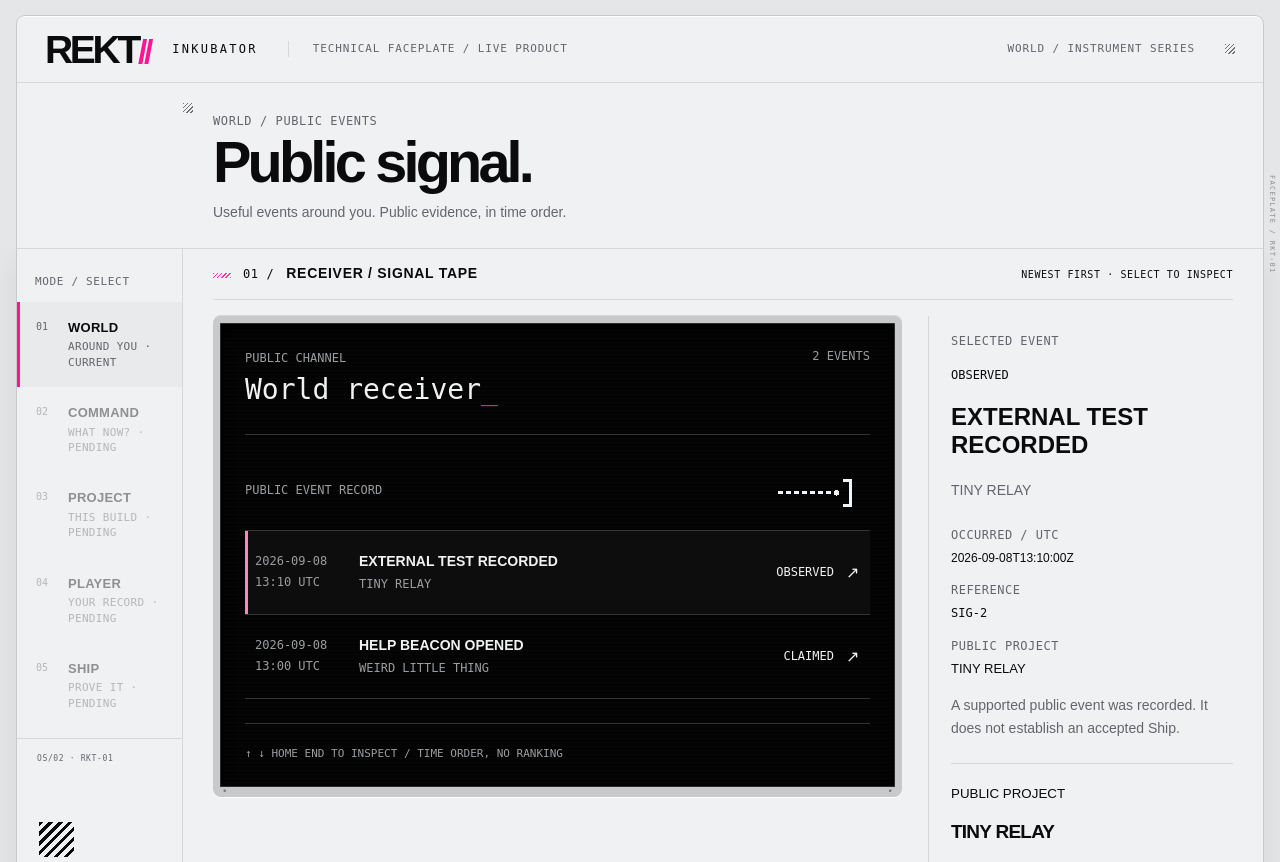
Test: Live World › lets an authenticated non-owner offer an Assist and shows the claimed follow-up
Press ArrowDown in the button "EXTERNAL TEST RECORDED", box x1=245 y1=531 x2=870 y2=615
(page scrolled)
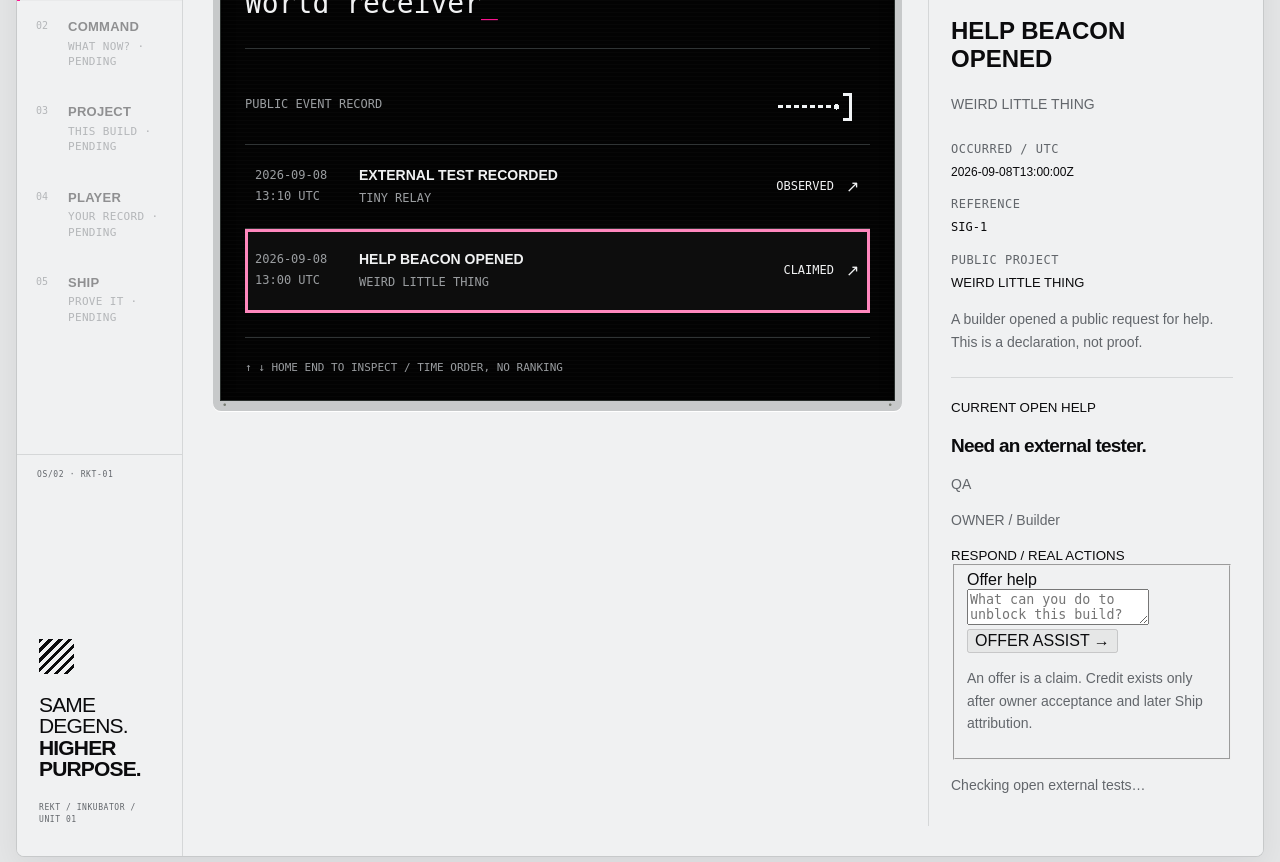
Type "I can test this." into the text box named "Assist message" at (1058, 607), box x1=967 y1=589 x2=1149 y2=625
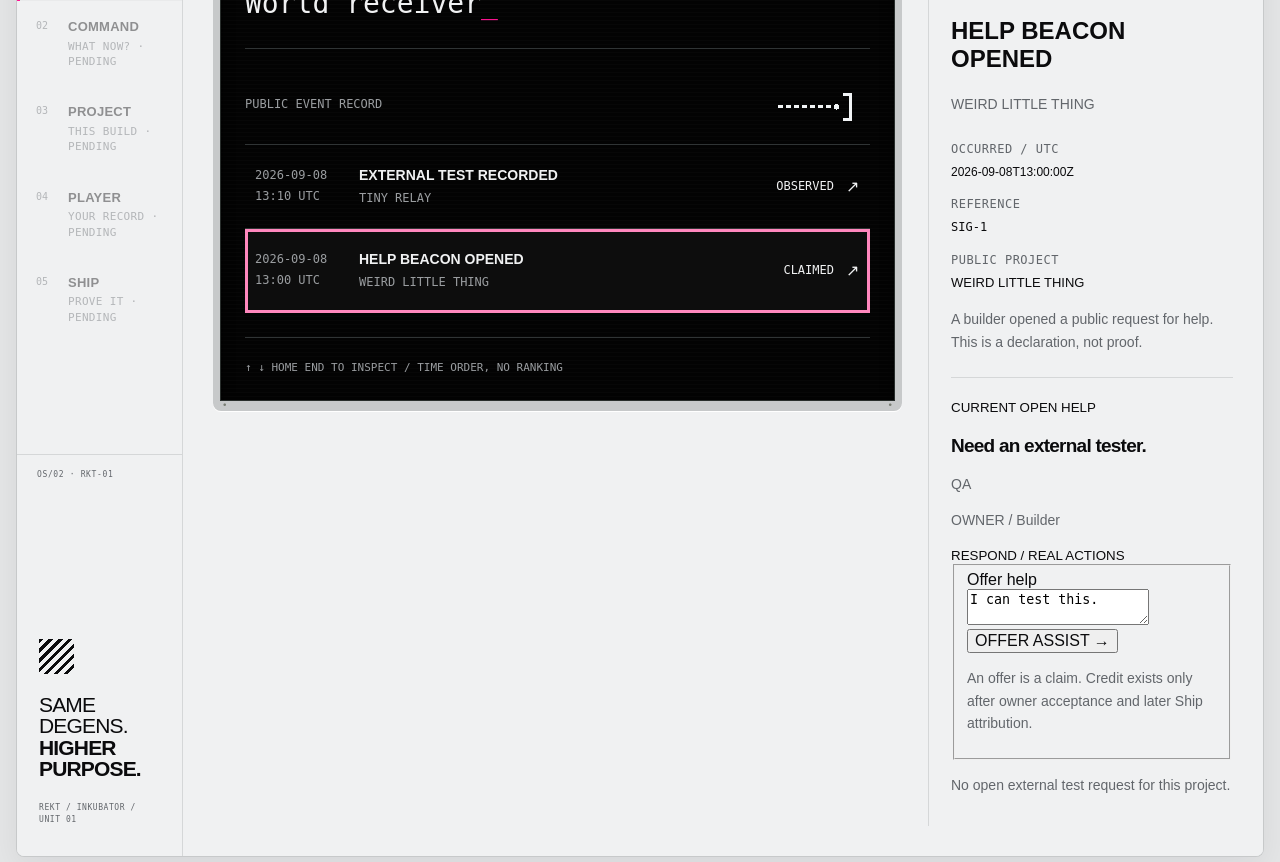
Click the button "OFFER ASSIST →" at (1042, 641), box x1=967 y1=629 x2=1118 y2=653
(page scrolled)
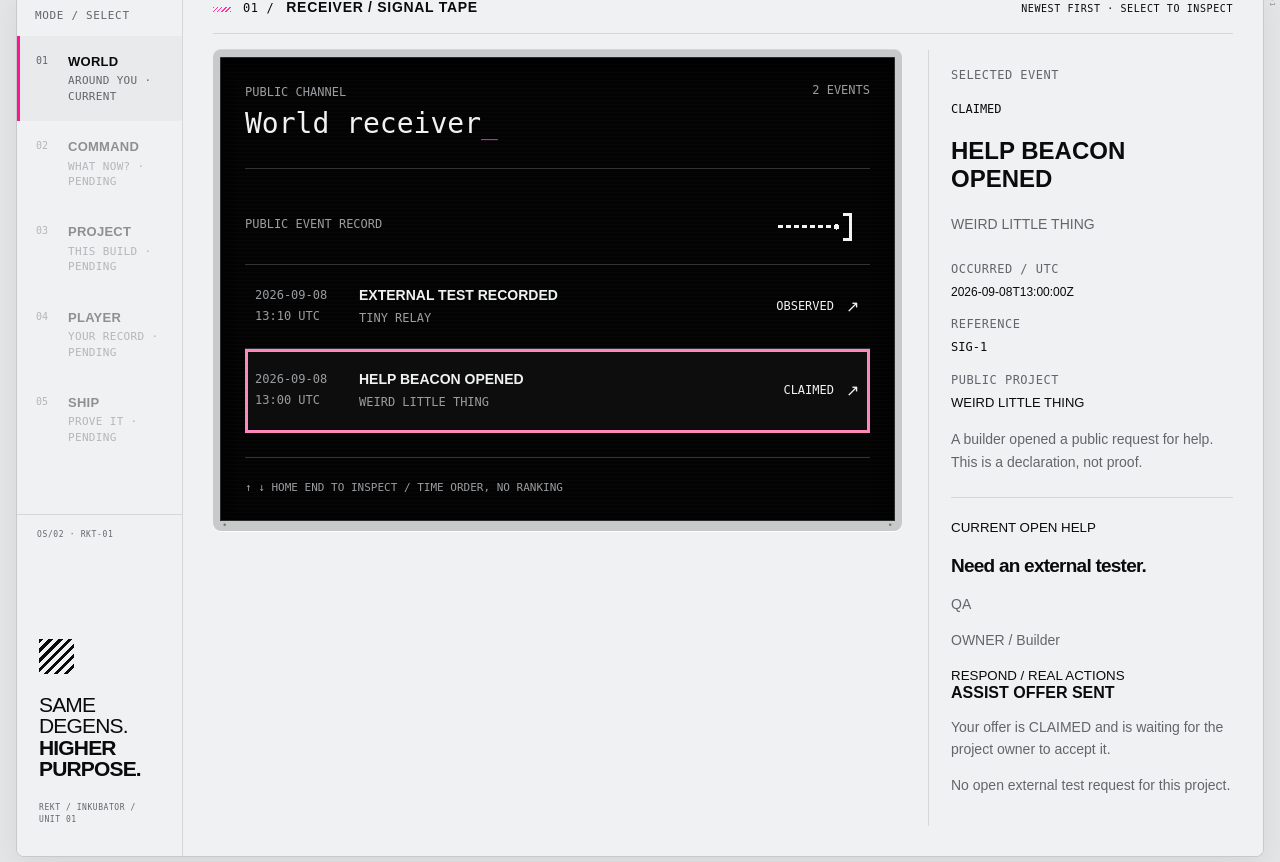
Now the message shows "ASSIST OFFER SENT", box x1=951 y1=684 x2=1115 y2=700
Now the text "waiting for the project owner to accept" is shown, box x1=951 y1=718 x2=1223 y2=757
